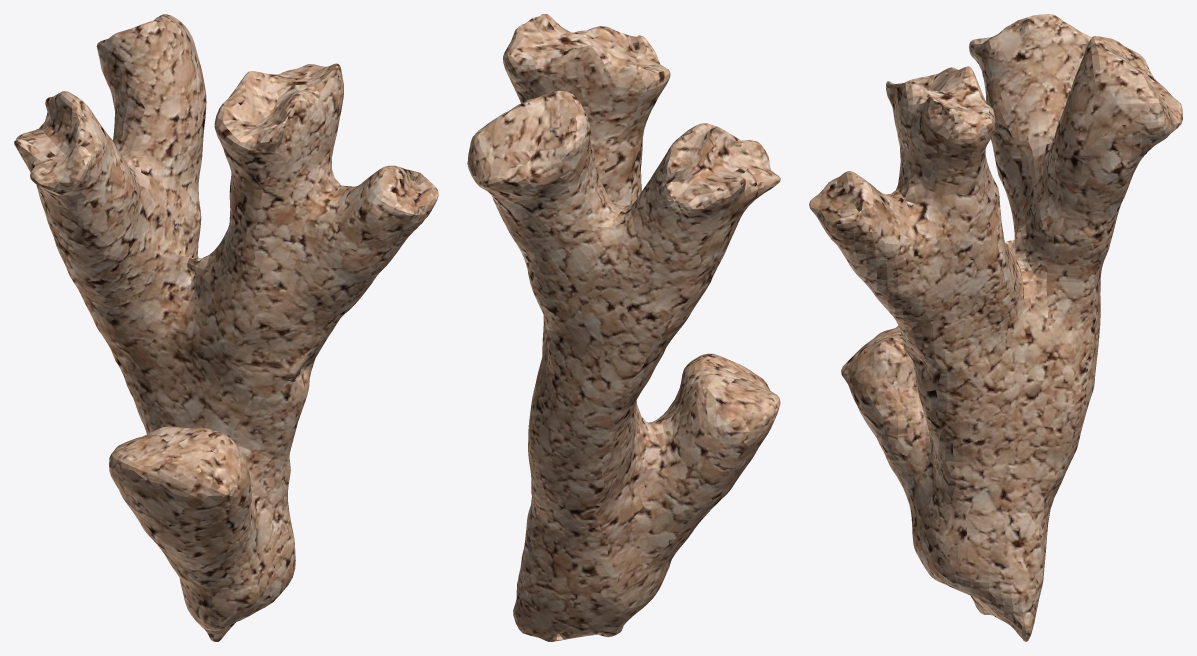
File: tubes.glb
3 renders of one model, left to right at view 1: azimuth 30°, elevation 25°; view 2: azimuth 150°, elevation 25°; view 3: azimuth 270°, elevation 25°, orthographic. The views are drawn at different scales.
Visible parts, largest first — view 1: coral_9_watertight_small; view 2: coral_9_watertight_small; view 3: coral_9_watertight_small.
Part boxes in pixels (x1,y1,x2,y2): coral_9_watertight_small: [14, 14, 438, 641]; coral_9_watertight_small: [467, 14, 780, 641]; coral_9_watertight_small: [809, 14, 1182, 641].
Bounding box in the file's own units: 49.05 × 84.97 × 50.45.
Materials: 1 (1 with a texture image).
